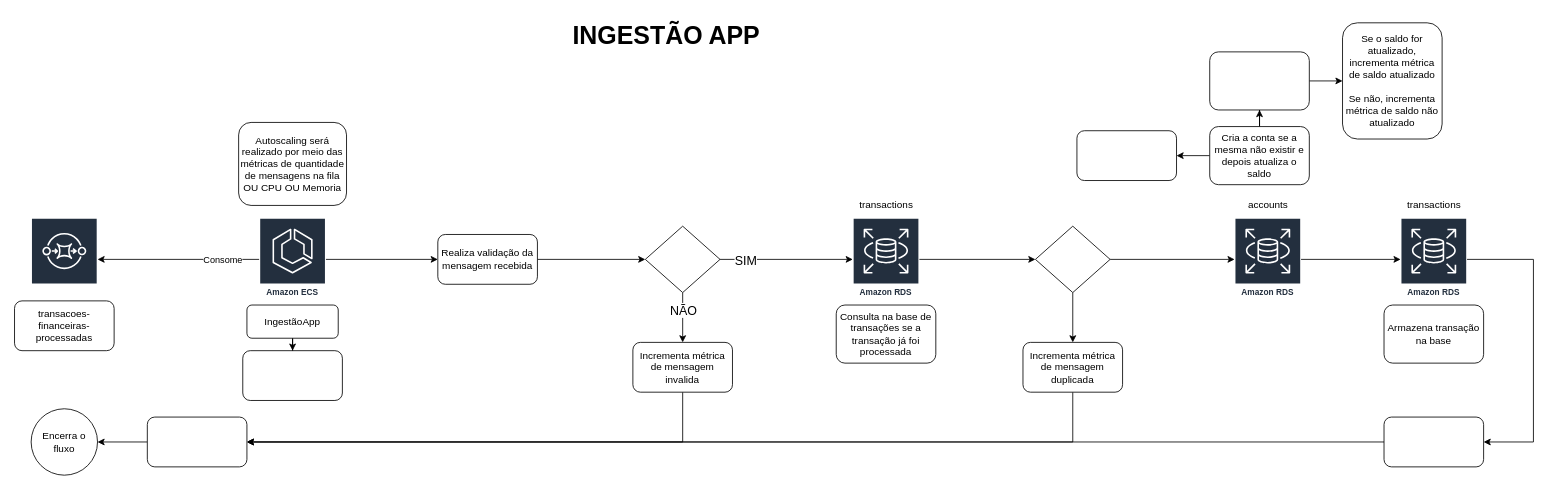
Image size: 1555x490. Some labels were removed from this diagram. The centre of each missing label's shape, as x and y in pixels:
Amazon SQS: (64,259)
Apenas atualiza o saldo se o registro da base tiver o timestamp menor: (1259,80)
Conectada no postgres de escrita: (292,375)
Encontrou?: (1072,259)
Faz acknowledge na mensagem dizendo que processou: (196,441)
Incrementa métrica de mensagem processada: (1433,441)
Mensagem valida?: (682,259)
Se a conta for criada, incrementa a métrica de conta criada: (1126,155)
